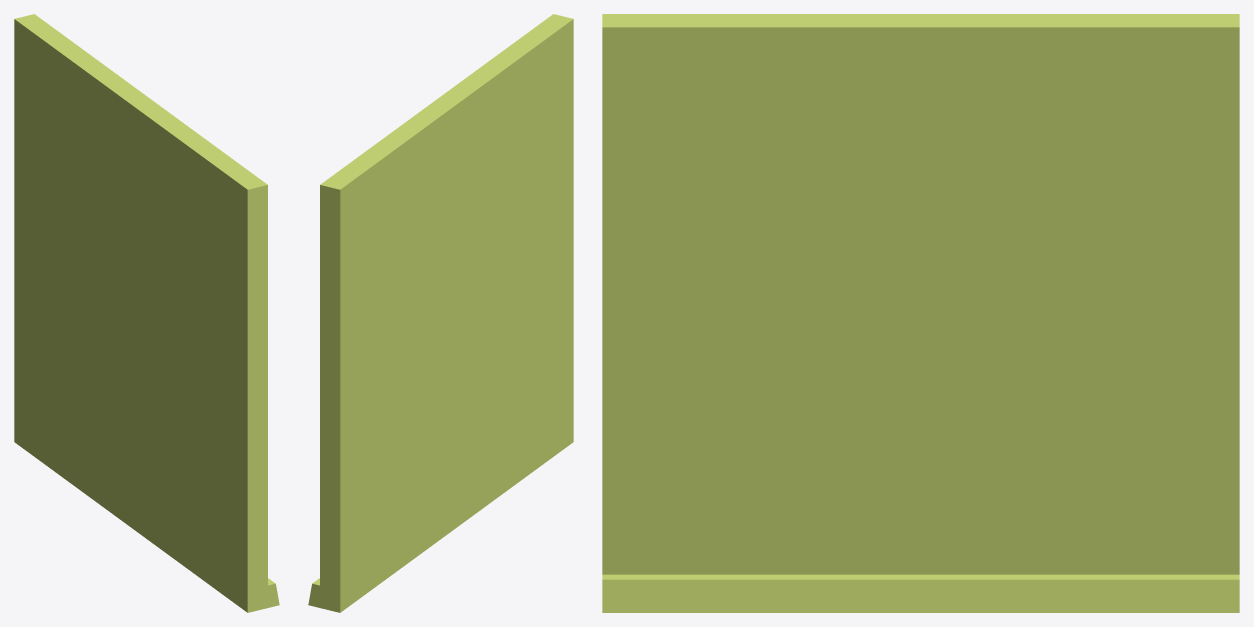
Rendered from SM_Proper_Wall.fbx.
3 renders of one model, left to right at view 1: azimuth 30°, elevation 25°; view 2: azimuth 150°, elevation 25°; view 3: azimuth 270°, elevation 25°, orthographic. The views are drawn at different scales.
Visible parts, largest first — view 1: Cube.007; view 2: Cube.007; view 3: Cube.007.
Part boxes in pixels (bbox=[...]): Cube.007: bbox=[14, 14, 279, 612]; Cube.007: bbox=[308, 14, 573, 612]; Cube.007: bbox=[602, 14, 1239, 612].
Size of the model in its own units: 31.57 by 400 by 400.
